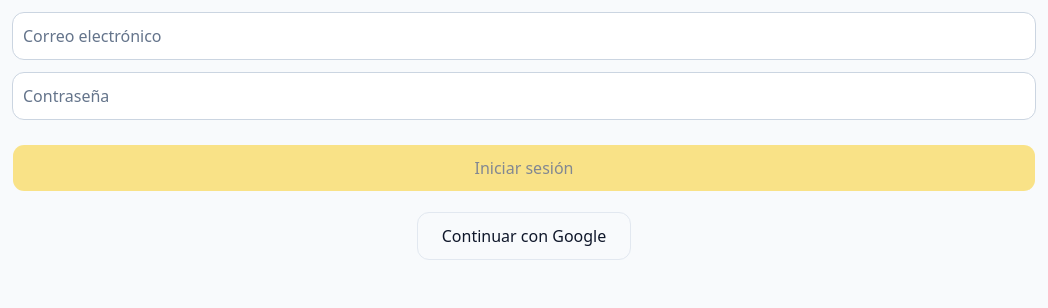
LoginForm Google button › shows Spanish message when Google popup is closed
The image size is (1048, 308).
Click the button "Continuar con Google" at {"x": 524, "y": 236}, box [417,212,631,260]
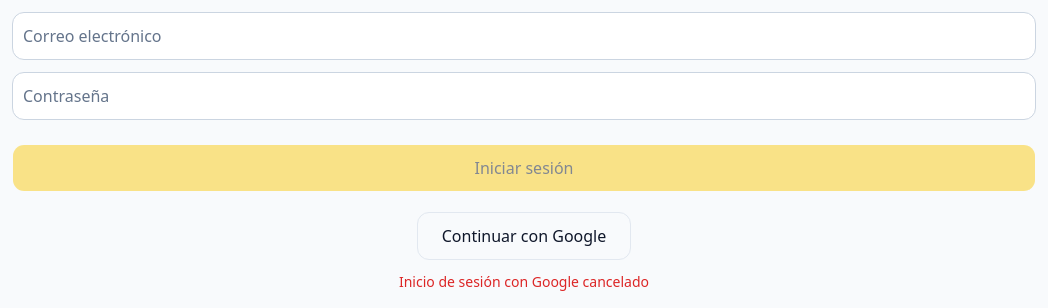
Check: the message reads "Inicio de sesión con Google cancelado", box [399,272,649,291]
